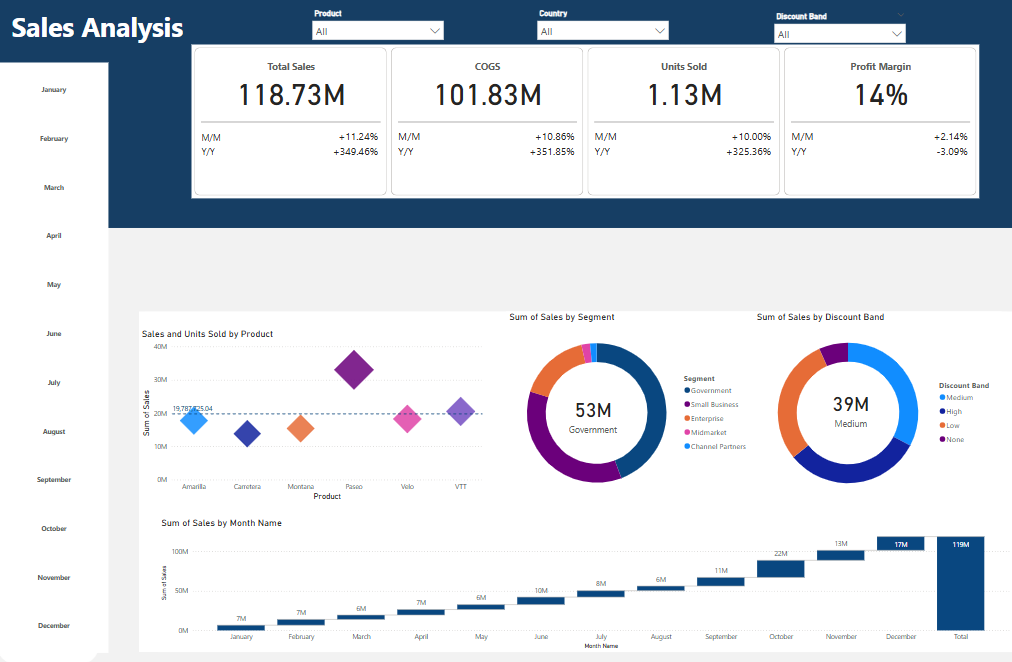

The dashboard page shown, as its layout file describes it:
{"tool":"powerbi","page":{"name":"sales analysis","canvas":[1840,1220],"ordinal":0},"visuals":[{"type":"textbox","box":[19,24.4,541.4,140.8],"z":0},{"type":"cardVisual","fields":{"Data":["Sum(financials. Sales)","Sum(financials.COGS)","Sum(financials.Units Sold)","metrics.Profit Margin"]},"box":[349.2,94.8,1426.7,278.8],"z":1000},{"type":"shape","box":[255.4,578.6,1583.8,616.7],"z":2000},{"type":"scatterChart","title":"  Sales and Units Sold by Product","fields":{"X":["financials.Product"],"Y":["Sum(financials. Sales)"],"Size":["Sum(financials.Units Sold)"]},"box":[255.4,608.5,627.5,317.8],"z":3000},{"type":"donutChart","fields":{"Category":["financials.Segment"],"Y":["Sum(financials. Sales)"]},"box":[920.9,578.6,448.2,347.7],"z":4000},{"type":"card","fields":{"Values":["Sum(financials. Sales)"]},"box":[1007.8,725.3,138.5,78.8],"z":5000},{"type":"donutChart","fields":{"Y":["Sum(financials. Sales)"],"Category":["financials.Discount Band"]},"box":[1369.1,578.6,448.2,347.7],"z":6000},{"type":"card","fields":{"Values":["Sum(financials. Sales)"]},"box":[1475.1,714.5,138.5,78.8],"z":7000},{"type":"waterfallChart","fields":{"Category":["financials.Month Name"],"Y":["Sum(financials. Sales)"]},"box":[290.7,950.8,1548.4,244.5],"z":8000},{"type":"slicer","fields":{"Values":["financials.Month Name"]},"box":[0,127.2,200.3,1069.3],"z":9000},{"type":"slicer","fields":{"Values":["financials.Product"]},"box":[560.4,24.4,257.2,65],"z":10000},{"type":"slicer","fields":{"Values":["financials.Country"]},"box":[966.5,24.4,257.2,65],"z":11000},{"type":"slicer","fields":{"Values":["financials.Discount Band"]},"box":[1396.9,29.8,257.2,65],"z":12000}]}

Visuals, with their boxes in screenshot pixels (x1, y1, x2, y2), scaled from the page's 1840x1220 canvas onto the 1012x662 screenshot:
textbox: bbox=[10, 13, 308, 90]
cardVisual - Sum(financials. Sales) x Sum(financials.COGS): bbox=[192, 51, 977, 203]
shape: bbox=[140, 314, 1011, 649]
"  Sales and Units Sold by Product" scatterChart: bbox=[140, 330, 486, 503]
donutChart - financials.Segment x Sum(financials. Sales): bbox=[506, 314, 753, 503]
card - Sum(financials. Sales): bbox=[554, 394, 630, 436]
donutChart - Sum(financials. Sales) x financials.Discount Band: bbox=[753, 314, 1000, 503]
card - Sum(financials. Sales): bbox=[811, 388, 887, 430]
waterfallChart - financials.Month Name x Sum(financials. Sales): bbox=[160, 516, 1011, 649]
slicer - financials.Month Name: bbox=[0, 69, 110, 649]
slicer - financials.Product: bbox=[308, 13, 450, 49]
slicer - financials.Country: bbox=[532, 13, 673, 49]
slicer - financials.Discount Band: bbox=[768, 16, 910, 51]
